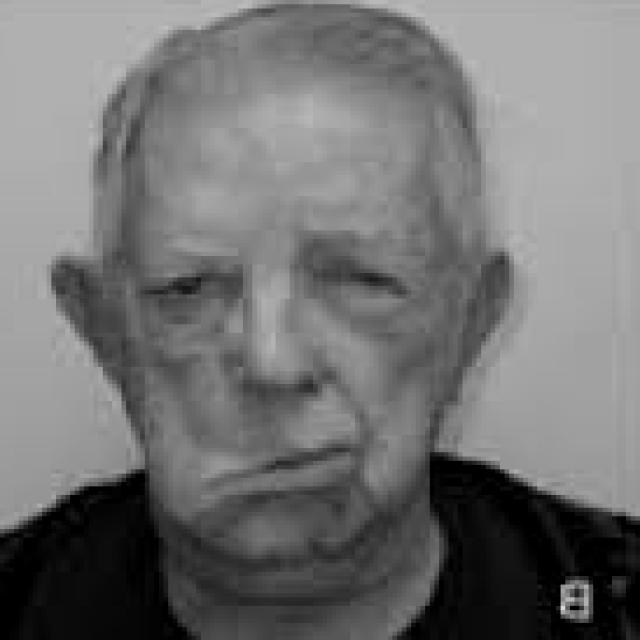stroke_face: (87, 44, 455, 578)
